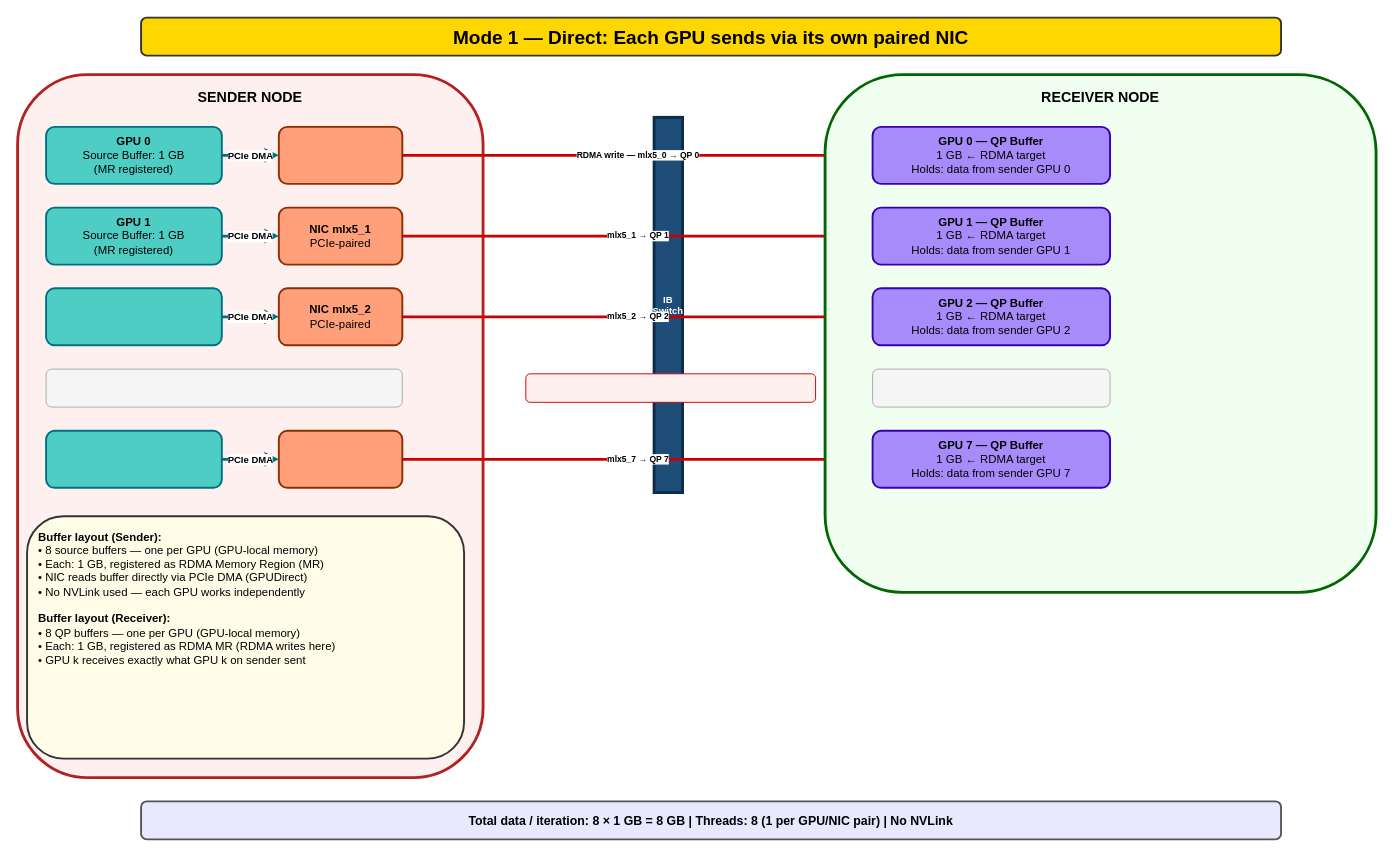
Some shapes in this 1394 by 856 pixel diagram are drawn without their labels. Each missing label, with the box of its shape:
GPU 2 Source Buffer: 1 GB (MR registered): (45, 287, 222, 346)
GPU 3 · GPU 4 · GPU 5 · GPU 6 (identical pattern: 1 GB each → paired NIC): (45, 368, 402, 407)
GPU 3 · GPU 4 · GPU 5 · GPU 6 (identical: 1 GB each): (872, 368, 1110, 407)
GPU 7 Source Buffer: 1 GB (MR registered): (45, 429, 222, 488)
mlx5_3→QP3, mlx5_4→QP4, mlx5_5→QP5, mlx5_6→QP6 (same pattern): (525, 373, 816, 402)
NIC mlx5_0 PCIe-paired: (277, 125, 403, 184)
NIC mlx5_7 PCIe-paired: (277, 429, 403, 488)
